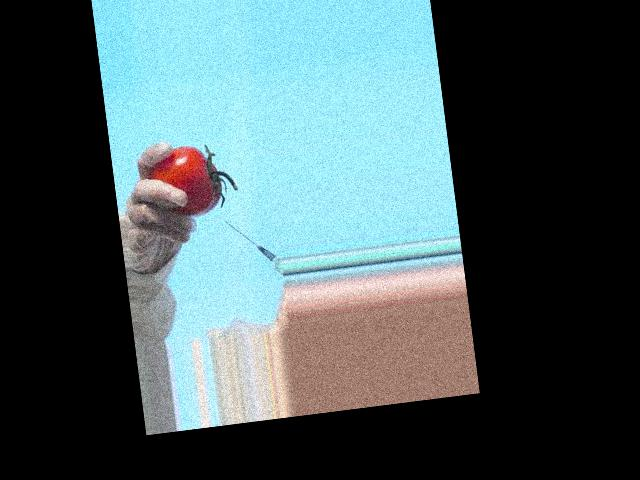tomato: (146, 141, 224, 220)
